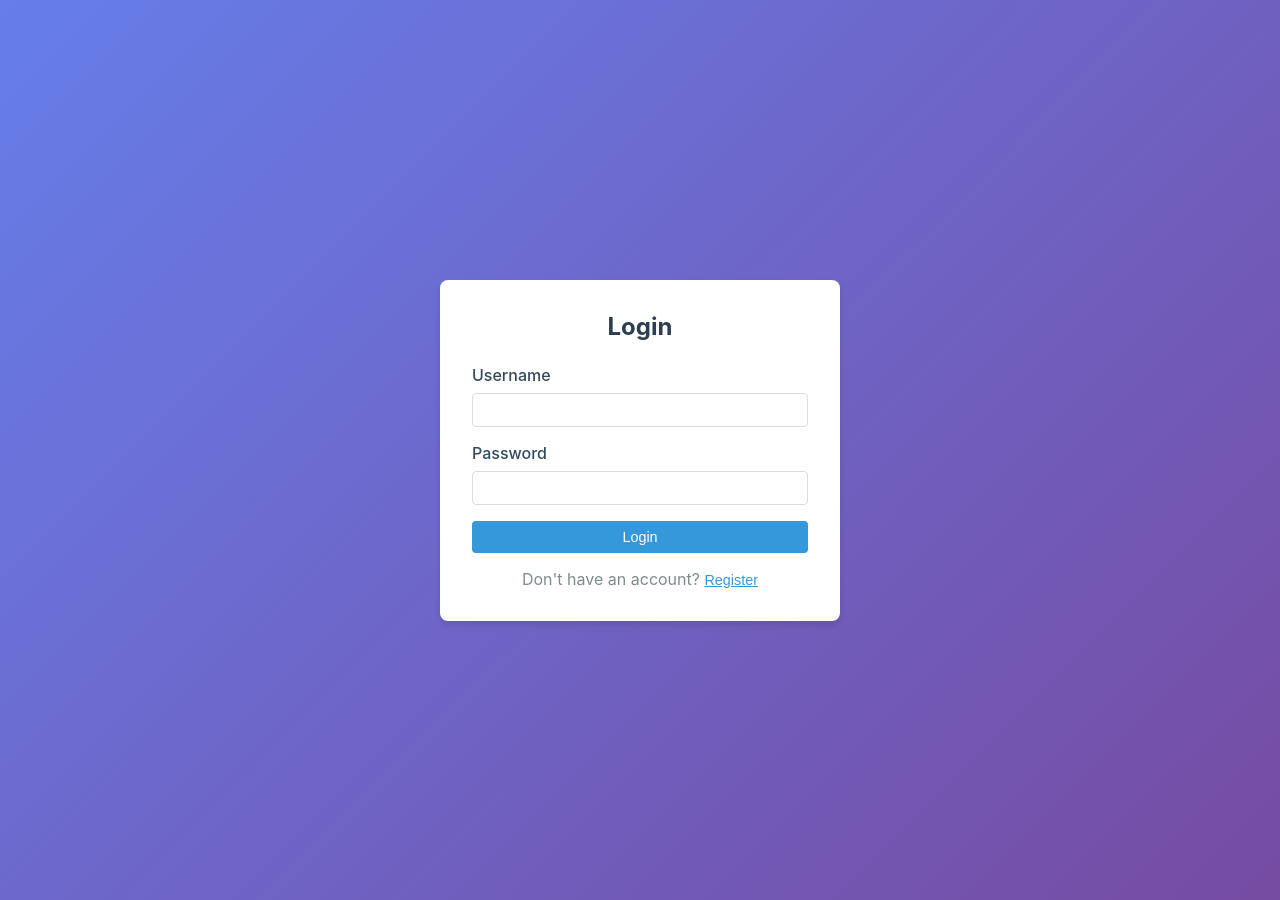
Auth Component › switches to register mode
Click the button "Register": point(731, 580) [704,572,758,588]
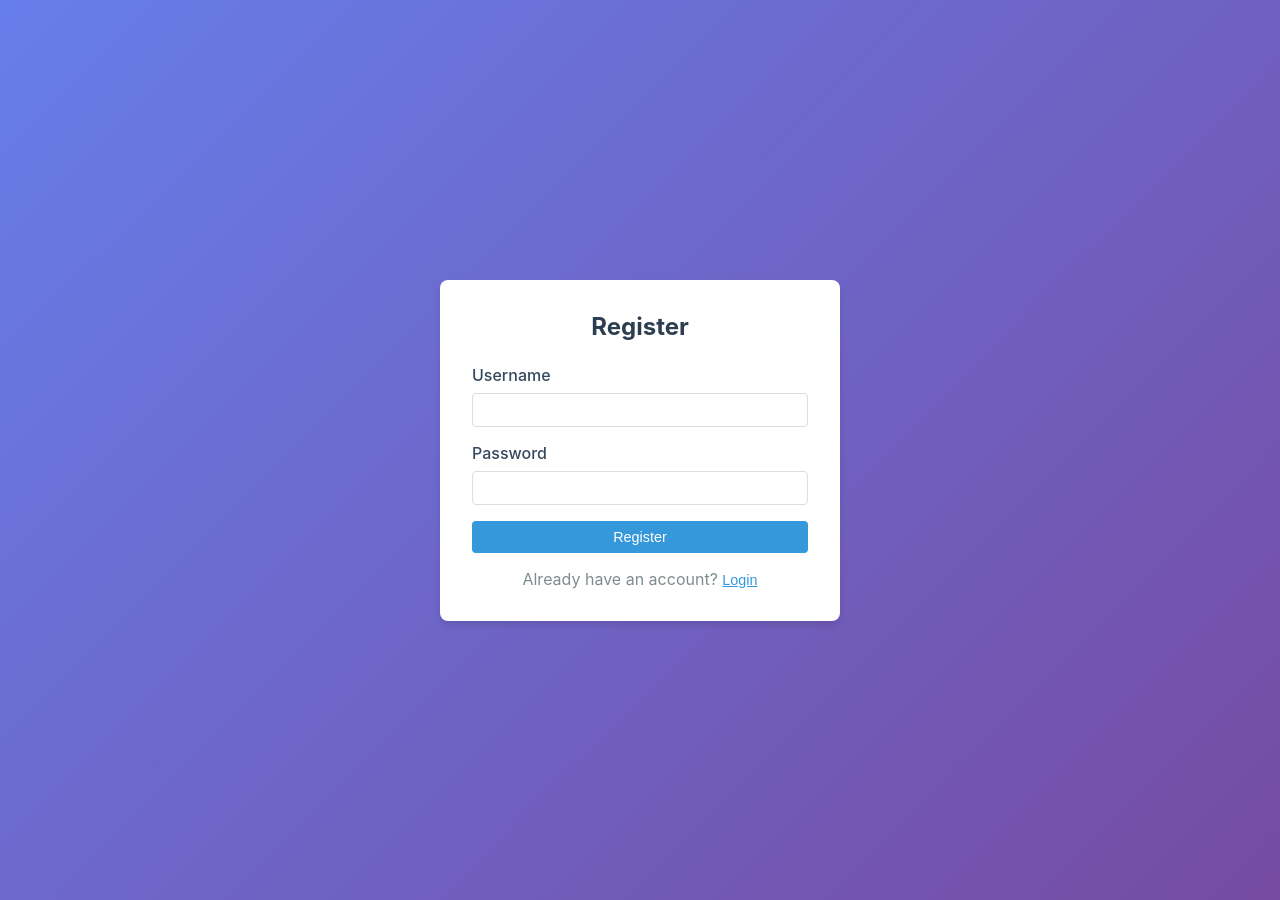
Result: the button "Register" is shown at [472,520,808,552]
